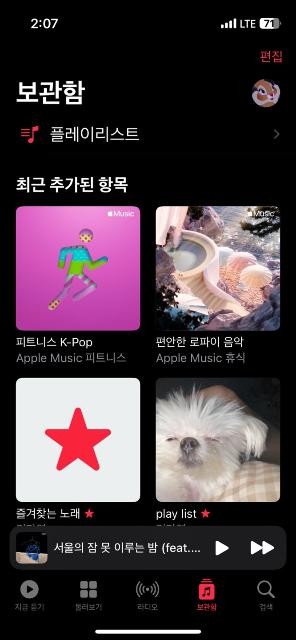Bottom_Navigation: (0, 564, 296, 640)
Icon: (136, 578, 160, 598), (257, 578, 277, 600), (21, 124, 40, 146), (198, 578, 216, 600), (19, 579, 38, 599), (250, 541, 274, 555), (81, 581, 97, 597), (215, 540, 229, 556), (84, 508, 94, 518), (202, 510, 210, 518), (274, 130, 280, 140)
Image: (156, 206, 280, 330), (16, 377, 140, 501), (157, 376, 279, 502), (16, 206, 138, 330), (17, 532, 48, 564), (251, 78, 281, 108)
Text: (16, 336, 126, 364), (158, 336, 244, 364), (18, 178, 128, 195), (16, 80, 85, 106), (56, 542, 200, 554), (50, 128, 140, 144), (16, 506, 80, 520), (157, 509, 197, 521), (262, 50, 282, 64), (76, 602, 102, 612), (15, 603, 45, 611), (198, 604, 217, 612), (136, 604, 158, 610), (260, 604, 274, 610)
TextImageButton: (15, 578, 46, 612), (76, 580, 102, 612), (196, 576, 218, 612), (136, 580, 160, 610), (256, 579, 276, 611)
Toolbar: (0, 34, 296, 116)
UpperTaskBar: (0, 1, 296, 36)
